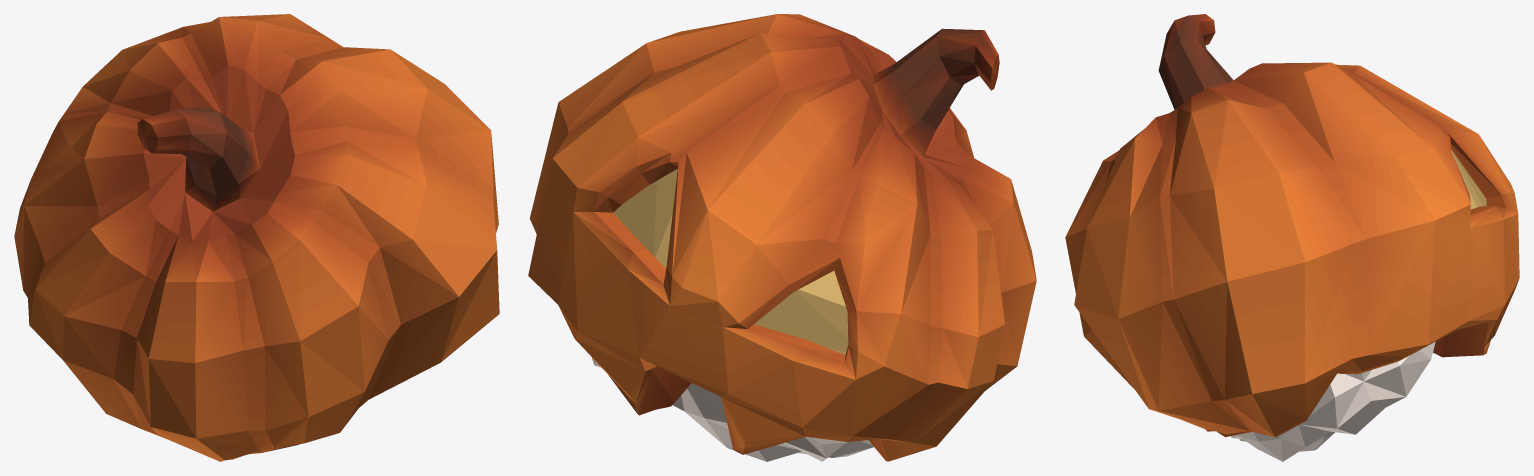
File: CharSkyKid_Hair_AP04Pumpkin_01.glb
The picture shows the model from 3 angles, left to right: view 1: azimuth 30°, elevation 25°; view 2: azimuth 150°, elevation 25°; view 3: azimuth 270°, elevation 25°; orthographic projection. The views are drawn at different scales.
Visible parts, largest first — view 1: CharSkyKid_Hair_AP04Pumpkin_01; view 2: CharSkyKid_Hair_AP04Pumpkin_01; view 3: CharSkyKid_Hair_AP04Pumpkin_01.
Part boxes in pixels (x1,y1,x2,y2): CharSkyKid_Hair_AP04Pumpkin_01: (14,14,499,461); CharSkyKid_Hair_AP04Pumpkin_01: (528,14,1036,461); CharSkyKid_Hair_AP04Pumpkin_01: (1065,14,1519,461).
Size of the model in its own units: 4.75 by 4.19 by 4.63.
Materials: 1 (1 with a texture image).
